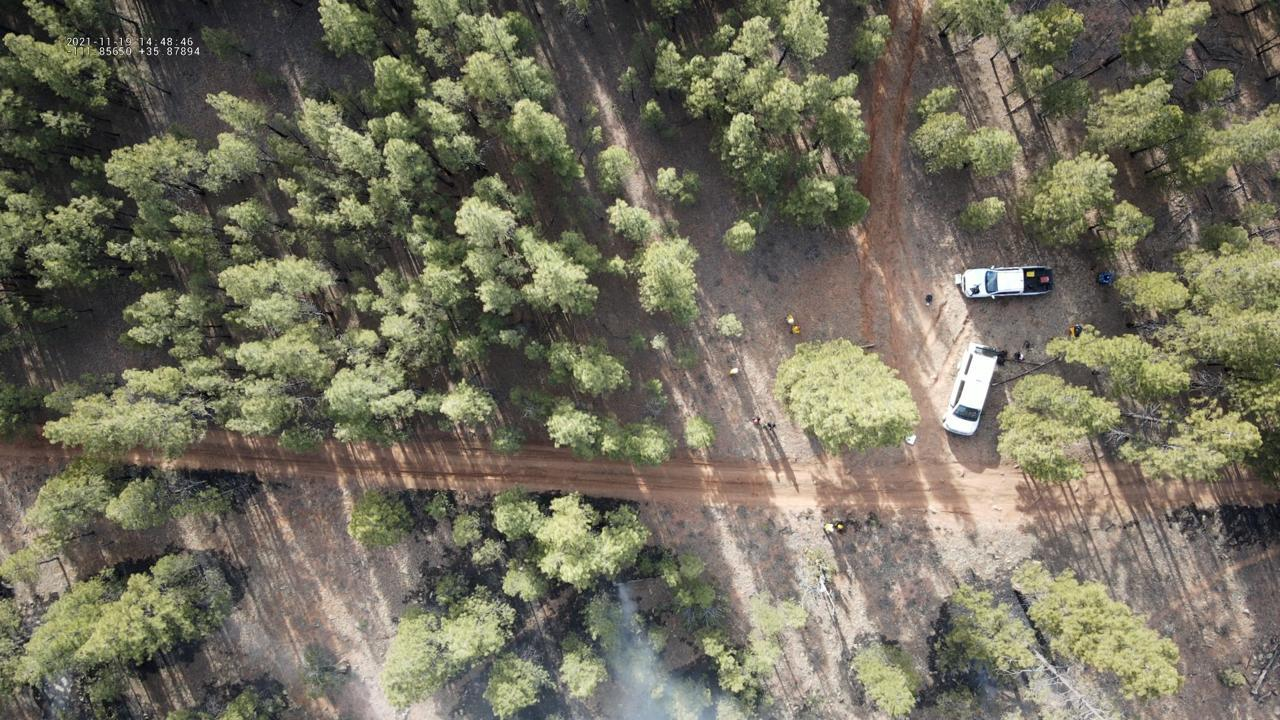smoke: (602, 579, 747, 720)
